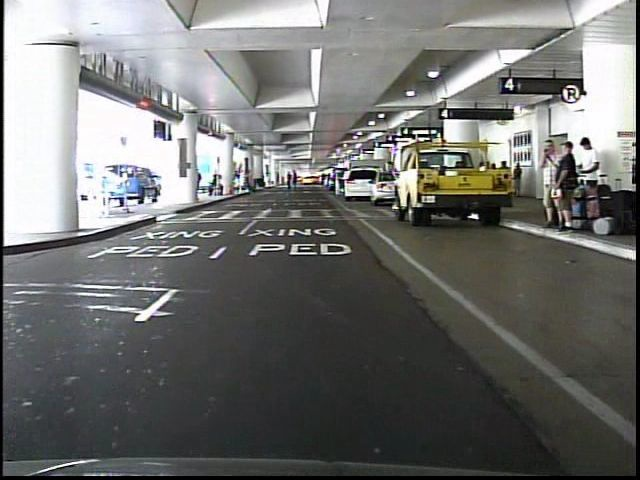person: (534, 138, 559, 228)
